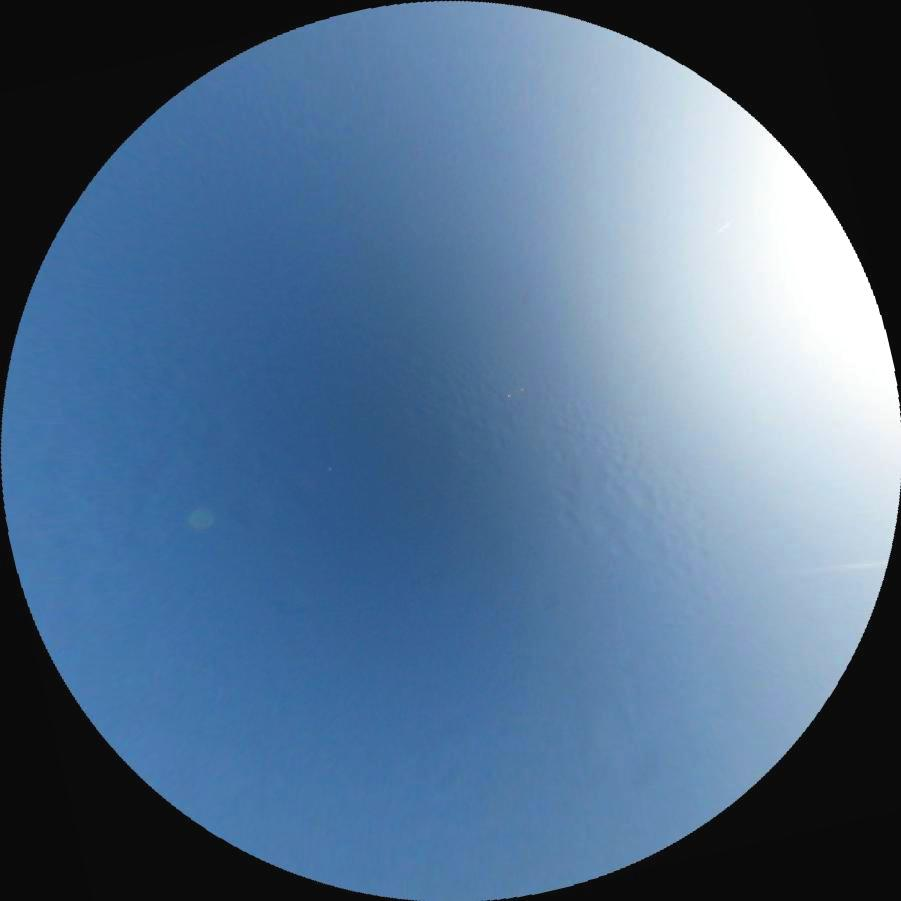contrail young: (799, 559, 885, 573), (715, 217, 732, 234)
